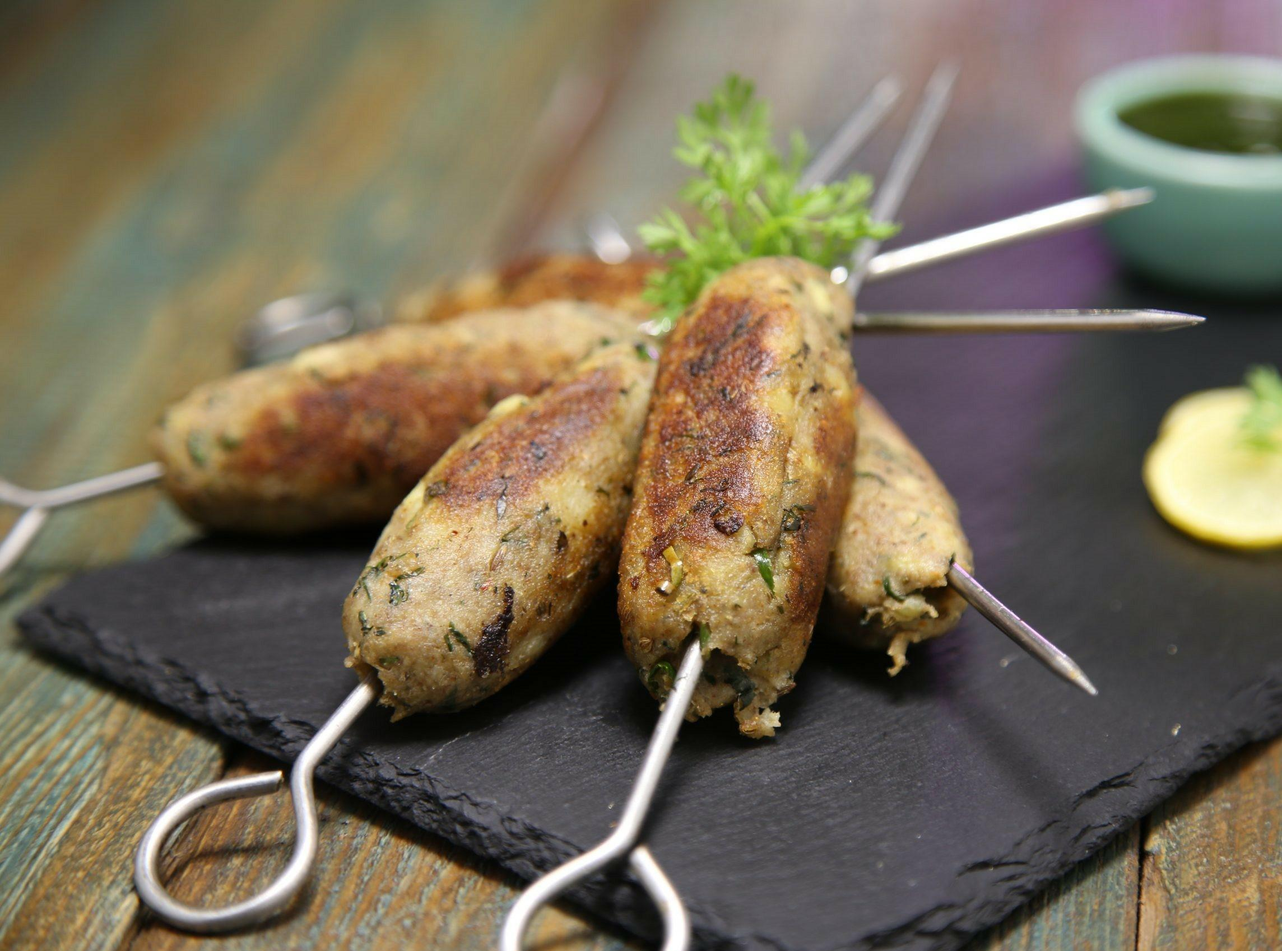Kebab: (344, 342, 654, 727), (148, 305, 639, 539), (619, 255, 856, 738), (823, 391, 975, 671)
